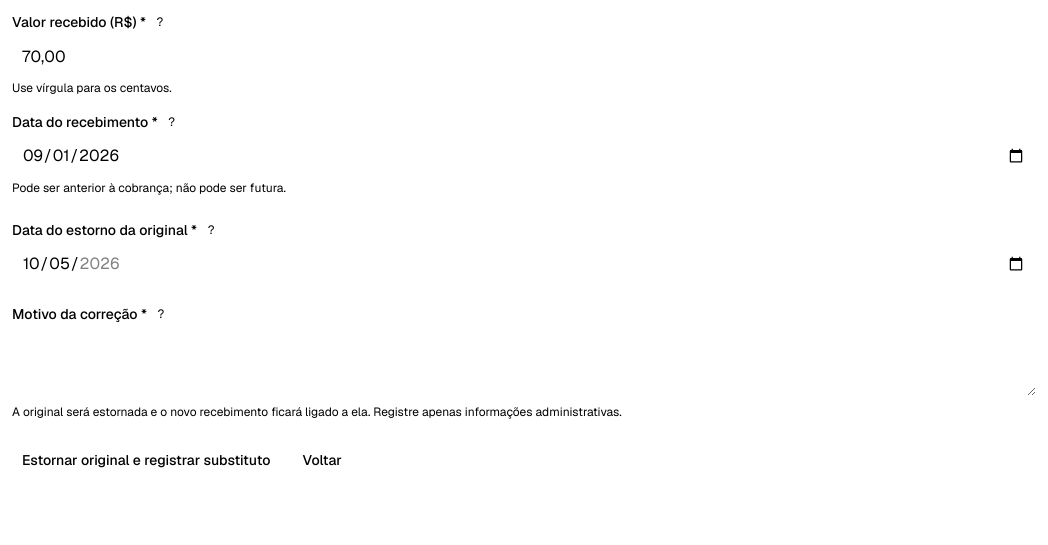
Scenario: PaymentForm › correção permite recebimento anterior ao estorno e mantém motivo após falha
Type "2026-08-01" into the date field labelled "Data do recebimento *". click: x=524, y=156
box: [12,140,1036,172]
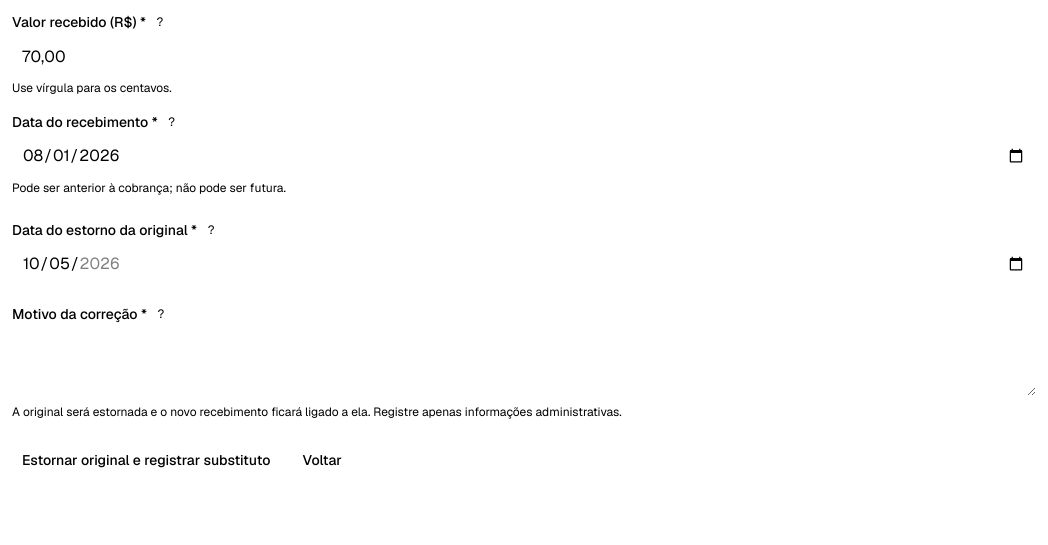
Type "Corrigir data e valor" into the text box labelled "Motivo da correção *". click: x=524, y=364
box: [12,332,1036,396]
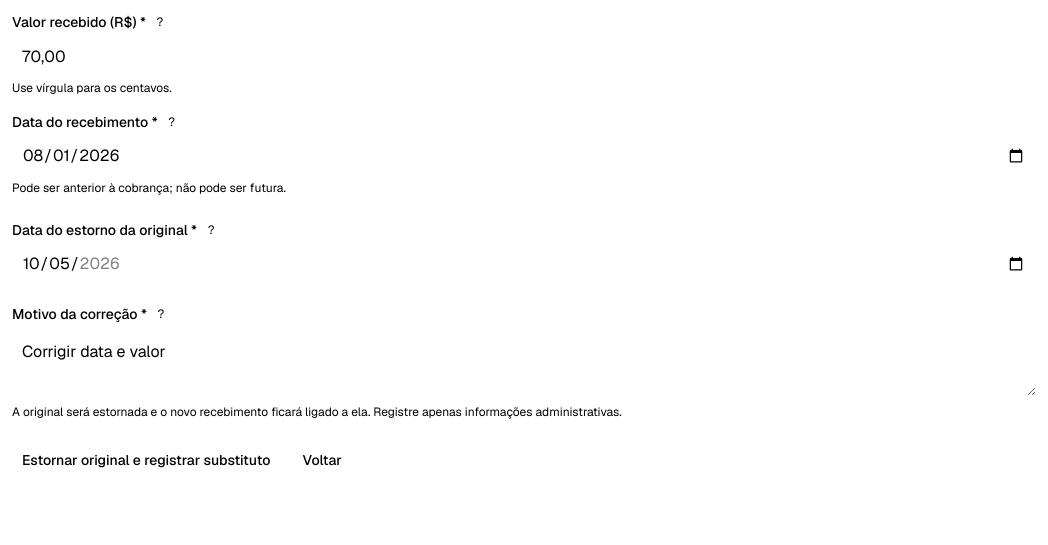
Submit the form named "Estornar original e registrar substituto"
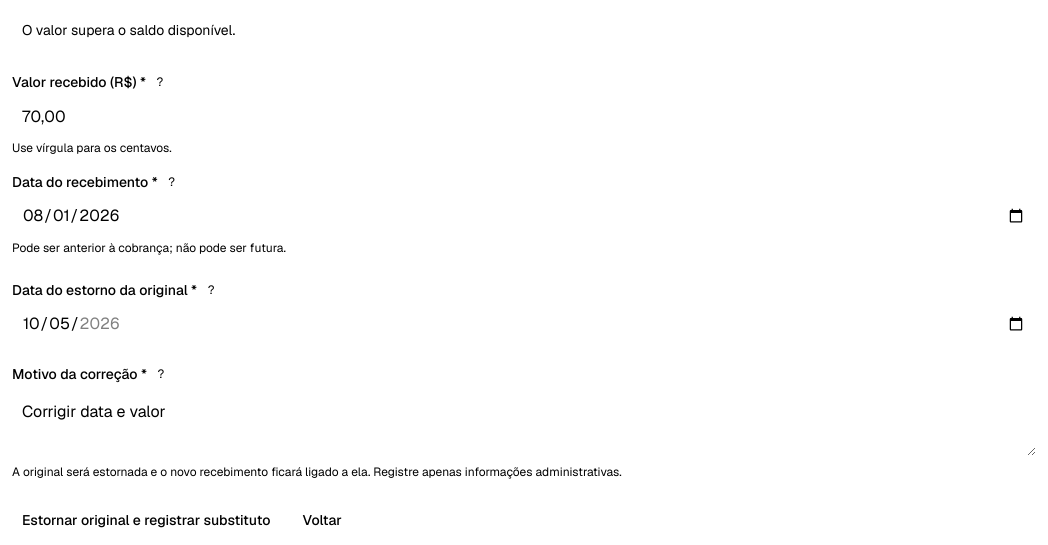
Check: the message "O valor supera o saldo disponível." is shown, box [22,21,235,39]
